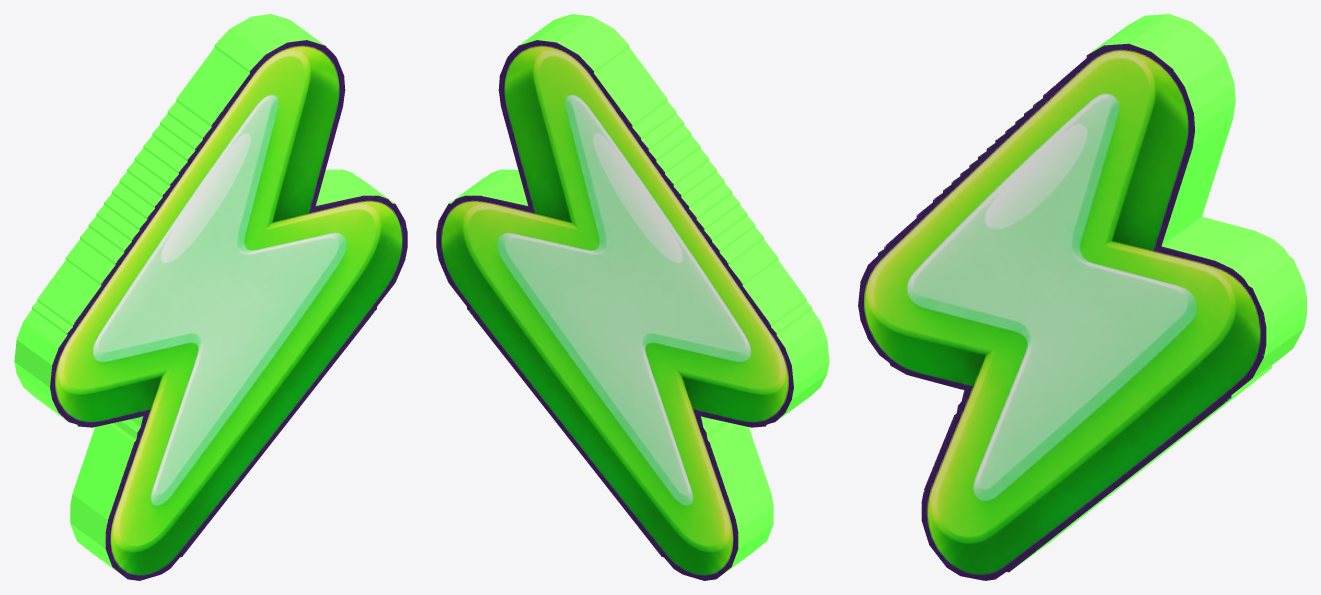
The model's file is icon_energy.glb.
3 renders of one model, left to right at view 1: azimuth 30°, elevation 25°; view 2: azimuth 150°, elevation 25°; view 3: azimuth 330°, elevation 25°, orthographic. The views are drawn at different scales.
Visible parts, largest first — view 1: IconRoot; view 2: IconRoot; view 3: IconRoot.
Part boxes in pixels (x1=…): IconRoot: x1=14, y1=14, x2=407, y2=580; IconRoot: x1=436, y1=14, x2=829, y2=580; IconRoot: x1=858, y1=14, x2=1306, y2=580.
Bounding box in the file's own units: 1.28 × 1.71 × 0.22.
2 materials, 1 textured.
